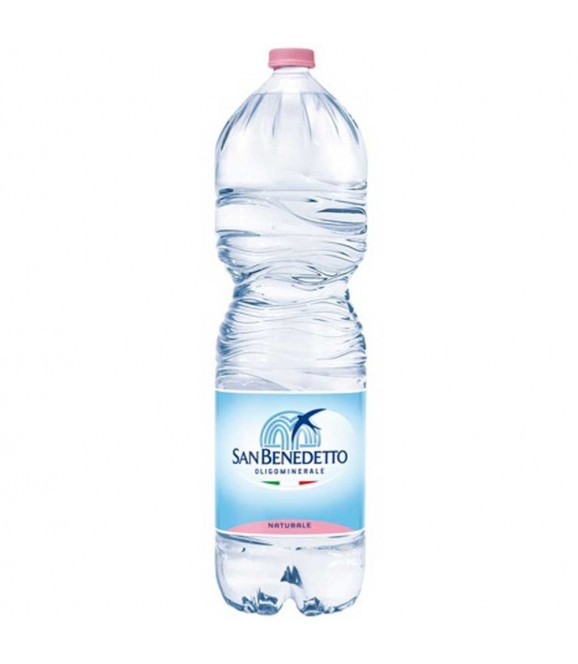PlasticBottle: (204, 36, 377, 626)
